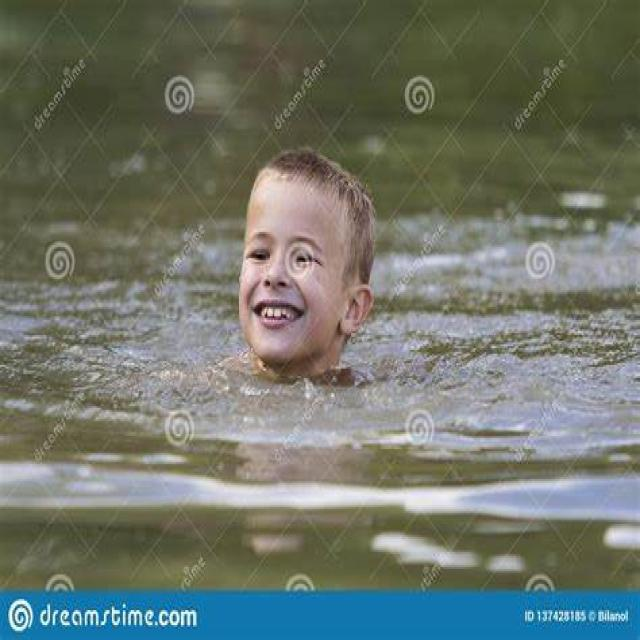swimming: (190, 139, 402, 388)
